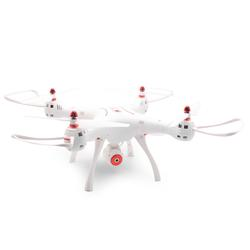drone: (3, 82, 246, 193)
